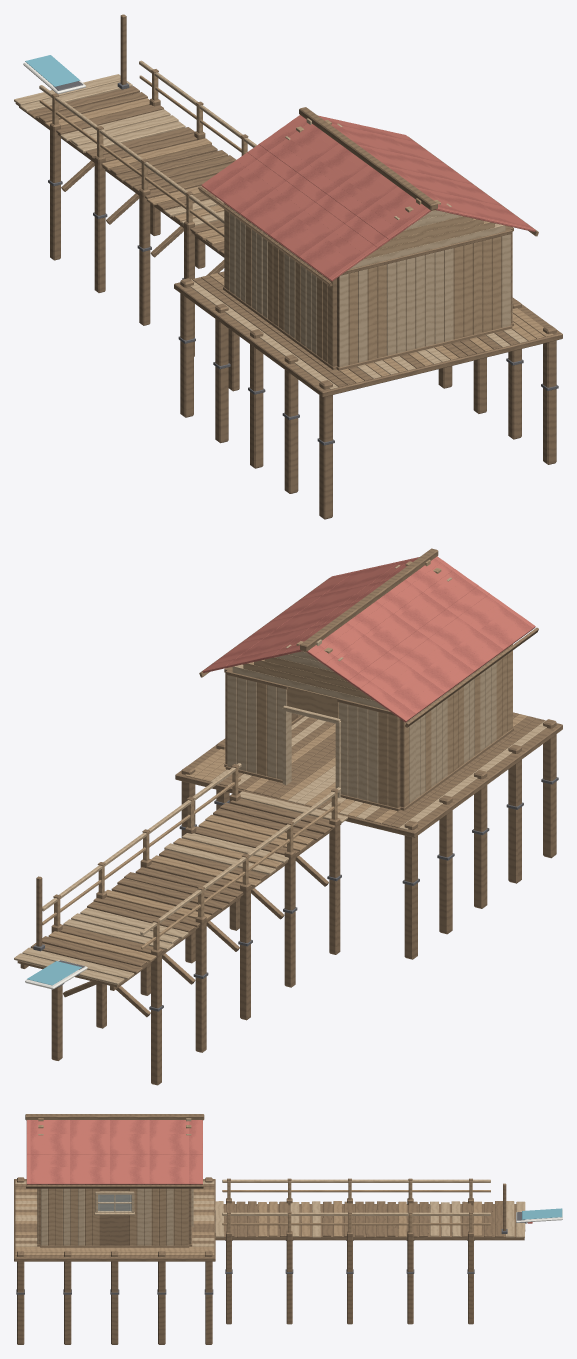
File: dock_house.glb
The picture shows the model from 3 angles, top to bottom: view 1: azimuth 30°, elevation 25°; view 2: azimuth 150°, elevation 25°; view 3: azimuth 270°, elevation 25°; orthographic projection. The views are drawn at different scales.
Parts seen in each view (by area): view 1: Dock House; view 2: Dock House; view 3: Dock House.
Part boxes in pixels (x1,y1,x2,y2): Dock House: (14,14,562,519); Dock House: (14,548,562,1085); Dock House: (14,1114,562,1344).
Size of the model in its own units: 7.11 by 8 by 20.75.
9 materials, 4 textured.
